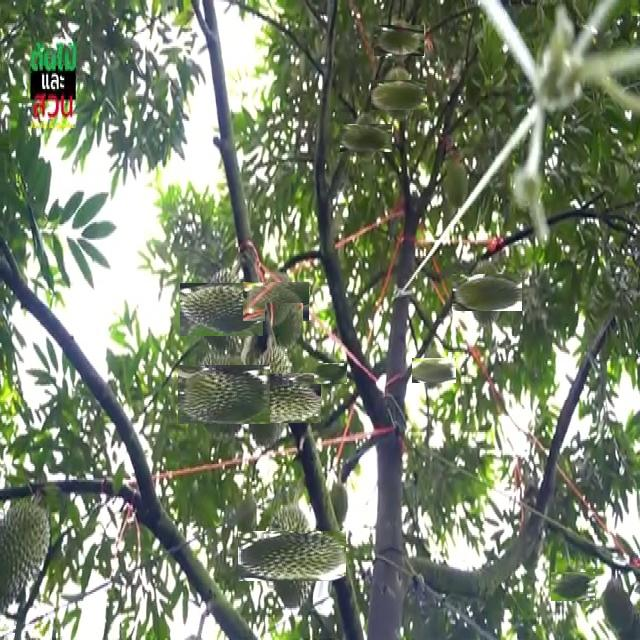durian: (1, 493, 52, 618), (252, 517, 331, 596), (230, 360, 308, 437), (186, 356, 262, 432), (188, 275, 256, 344), (460, 265, 514, 319), (250, 274, 302, 328), (265, 304, 303, 356), (378, 73, 421, 117), (378, 20, 419, 61), (439, 156, 471, 208), (346, 118, 387, 158), (554, 567, 592, 605), (324, 480, 350, 530), (416, 352, 452, 388), (317, 360, 344, 388)
